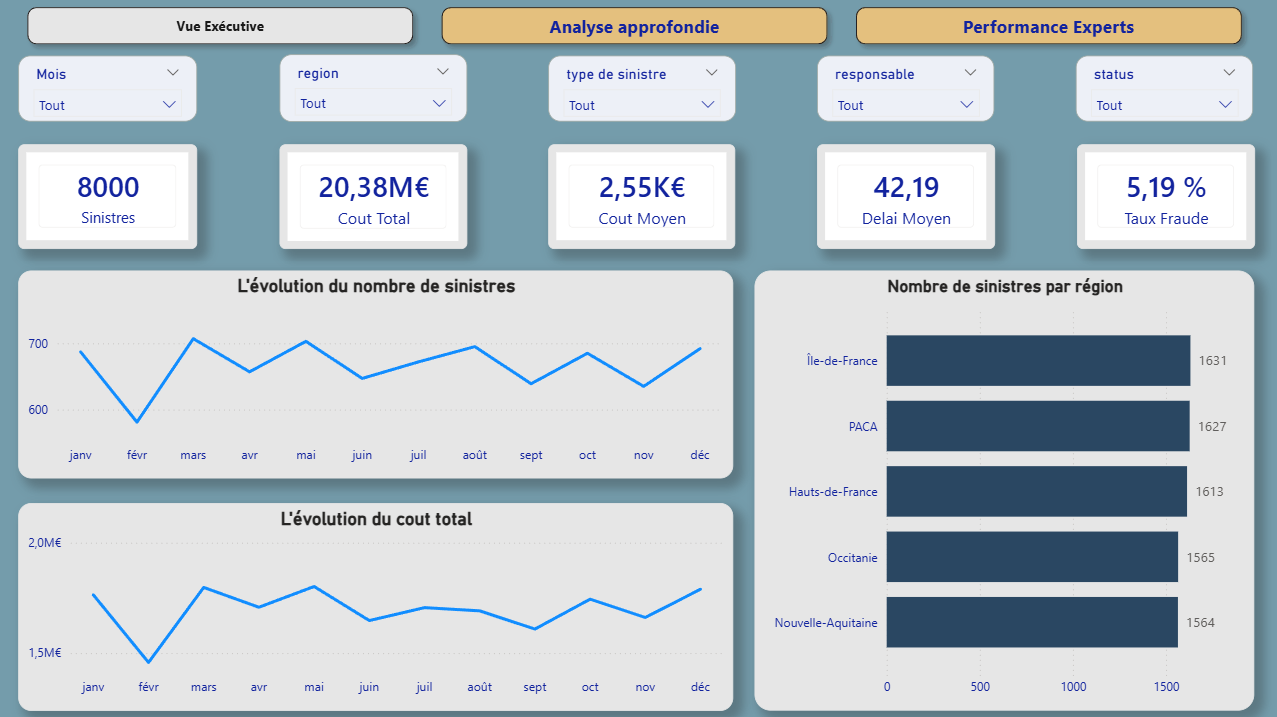

What the dashboard file says about the page in this screenshot:
{"tool":"powerbi","page":{"name":"Vue Exécutive","canvas":[1280,720],"ordinal":0},"visuals":[{"type":"cardVisual","fields":{"Data":["_mesures.Nb Sinistres"]},"box":[26.5,144.8,177.3,103.8],"z":0},{"type":"cardVisual","fields":{"Data":["_mesures.Cout Total"]},"box":[285.3,145.1,186.1,104.2],"z":1000},{"type":"cardVisual","fields":{"Data":["_mesures.Delai Moyen"]},"box":[819.1,144.7,176.7,103.7],"z":2000},{"type":"cardVisual","fields":{"Data":["_mesures.Cout Moyen"]},"box":[552.6,144.7,185.6,103.7],"z":3000},{"type":"cardVisual","fields":{"Data":["_mesures.Taux Fraude"]},"box":[1076.7,144.7,176.7,103.7],"z":4000},{"type":"lineChart","title":"L''évolution du cout total","fields":{"Category":["Calendar.Mois"],"Y":["_mesures.Cout Total"]},"box":[26.5,500.7,709.4,206.3],"z":5000},{"type":"clusteredBarChart","title":"Nombre de sinistres par région","fields":{"Y":["_mesures.Nb Sinistres"],"Category":["regions.region"]},"box":[756.7,270.4,496.2,436.7],"z":6000},{"type":"slicer","fields":{"Values":["Calendar.Mois"]},"box":[26.1,57.1,177.4,65.7],"z":7000},{"type":"slicer","fields":{"Values":["regions.region"]},"box":[285.3,55.8,186.1,67],"z":8000},{"type":"slicer","fields":{"Values":["claim_type.claim_type"]},"box":[552,57.1,186.1,65.7],"z":9000},{"type":"slicer","fields":{"Values":["regions.responsable"]},"box":[818.8,57.1,176.2,65.7],"z":10000},{"type":"slicer","fields":{"Values":["sinistres.status"]},"box":[1075.6,57.1,176.2,65.7],"z":11000},{"type":"lineChart","title":"L''évolution du nombre de sinistres","fields":{"Category":["Calendar.Mois"],"Y":["_mesures.Nb Sinistres"]},"box":[26.5,270.2,709.4,206.3],"z":12000},{"type":"pageNavigator","box":[26.1,0,1225.7,55.8],"z":12001}]}

Visuals, with their boxes in screenshot pixels (x1, y1, x2, y2), scaled from the page's 1280x720 canvas onto the 1277x717 screenshot:
cardVisual - _mesures.Nb Sinistres: 26,144,203,248
cardVisual - _mesures.Cout Total: 285,144,470,248
cardVisual - _mesures.Delai Moyen: 817,144,993,247
cardVisual - _mesures.Cout Moyen: 551,144,736,247
cardVisual - _mesures.Taux Fraude: 1074,144,1250,247
"L''évolution du cout total" lineChart: 26,499,734,704
"Nombre de sinistres par région" clusteredBarChart: 755,269,1250,704
slicer - Calendar.Mois: 26,57,203,122
slicer - regions.region: 285,56,470,122
slicer - claim_type.claim_type: 551,57,736,122
slicer - regions.responsable: 817,57,993,122
slicer - sinistres.status: 1073,57,1249,122
"L''évolution du nombre de sinistres" lineChart: 26,269,734,475
pageNavigator: 26,0,1249,56
